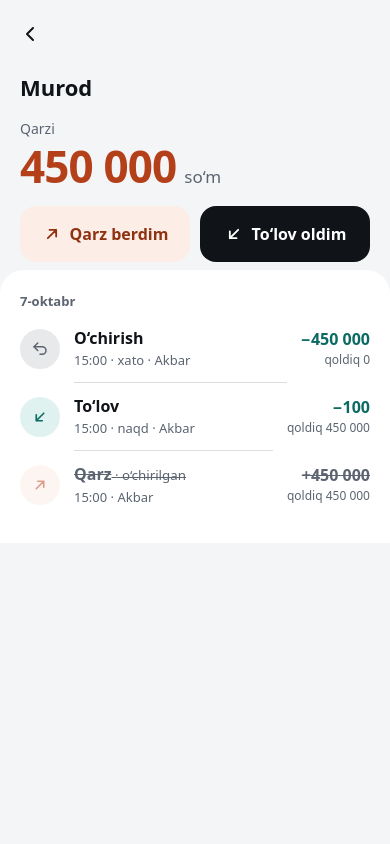
CustomerDetail › o‘chirish: tafsilot → O‘chirish → sabab → Ha, o‘chirish (Idempotency-Key bilan)
The image size is (390, 844).
Click the button "To‘lov 15:00 · naqd · Akbar −100 qoldiq 450 000": x=195, y=417 [0,383,389,451]
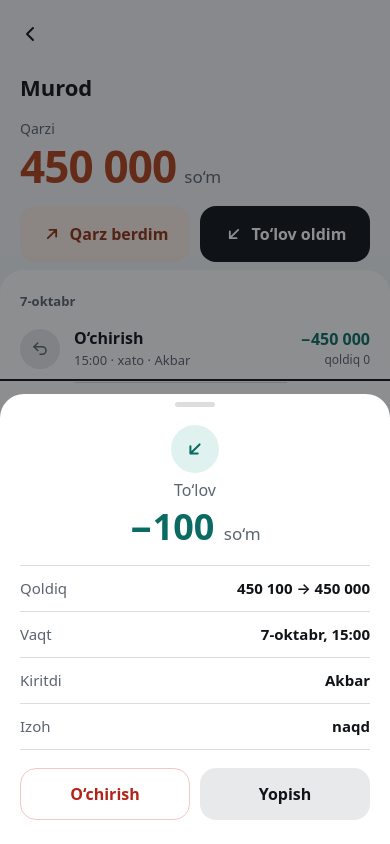
Expected: the text "450 100 → 450 000" is shown, [237,578,370,599]
Expected: the text "naqd" is shown, [332,716,370,737]
Click the button with aria-label "O‘chirish To‘lov": x=105, y=794 [20,768,190,820]
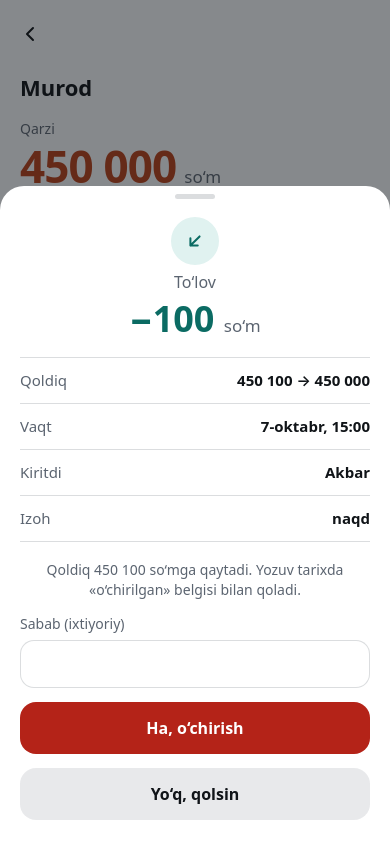
Expected: the dialog named "Yozuv tafsiloti" shows "Qoldiq 450 100 so‘mga qaytadi.", [47,560,343,599]
In the field labelled "Sabab (ixtiyoriy)": x=195, y=664 [20,640,370,688], type "adashdim"
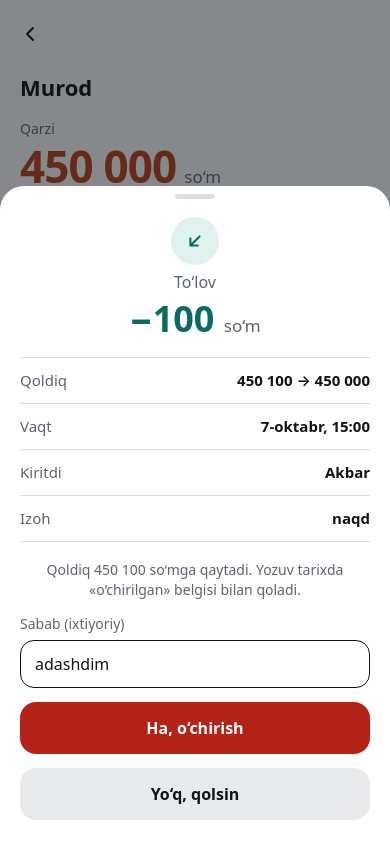
Click the button "Ha, o‘chirish": x=195, y=728 [20,702,370,754]
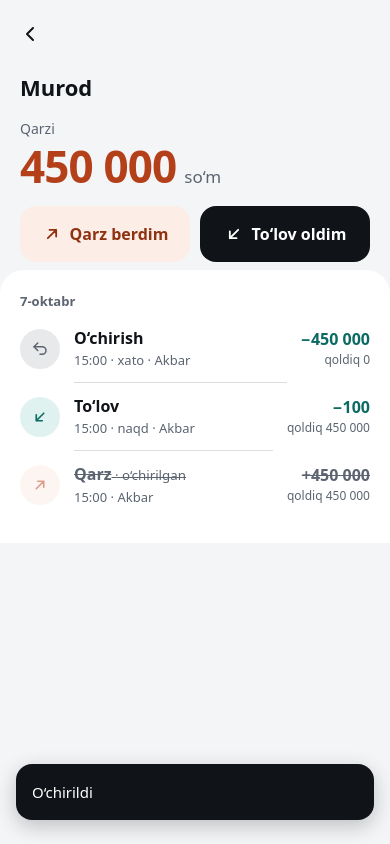
Expected: the dialog is gone
Expected: the text "O‘chirildi" is shown, [32,782,93,802]
